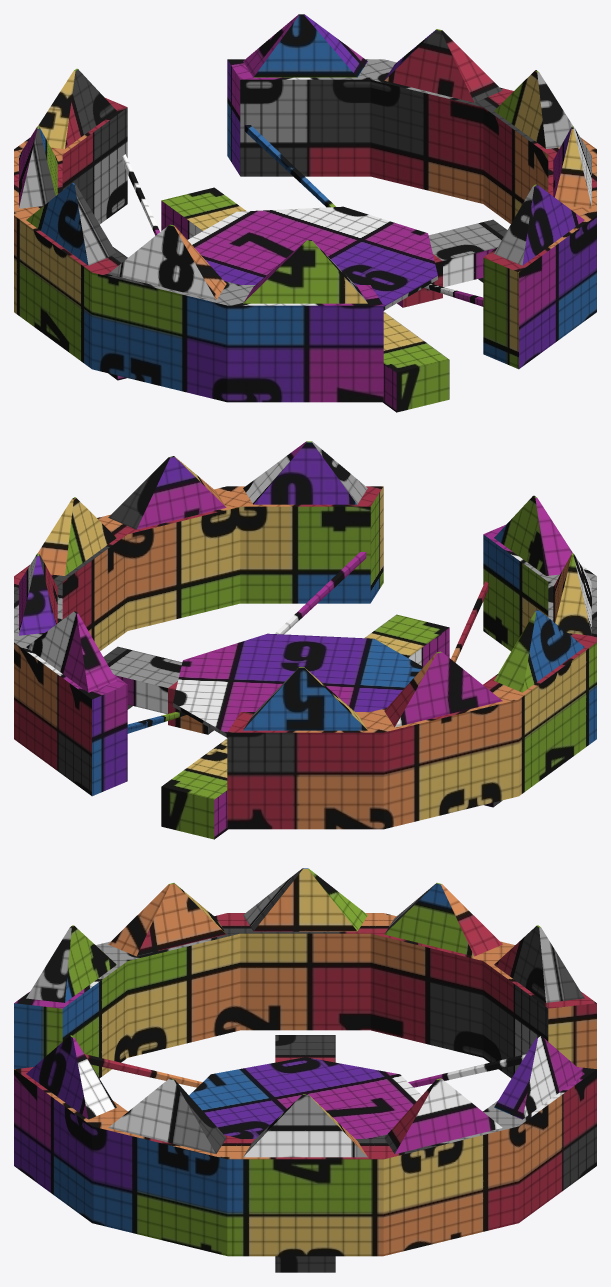
Rendered from trap_model.dae.
3 renders of one model, top to bottom at view 1: azimuth 30°, elevation 25°; view 2: azimuth 150°, elevation 25°; view 3: azimuth 270°, elevation 25°, orthographic.
Visible parts, largest first — view 1: Cylinder.001; view 2: Cylinder.001; view 3: Cylinder.001.
Part boxes in pixels (x1,y1,x2,y2): Cylinder.001: (14, 14, 596, 412); Cylinder.001: (14, 441, 596, 839); Cylinder.001: (14, 868, 596, 1272).
Size of the model in its own units: 1.93 by 1.93 by 0.7033.
1 material, 1 textured.
